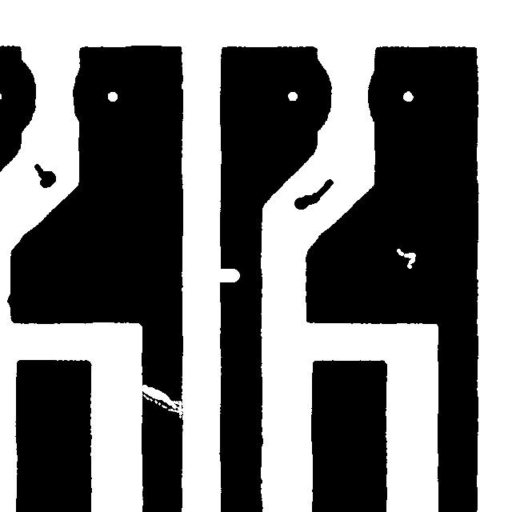copper: (286, 171, 341, 217), (26, 156, 63, 195)
mousebite: (206, 261, 247, 290)
open: (128, 376, 196, 426)
pin-hole: (389, 241, 423, 276)
